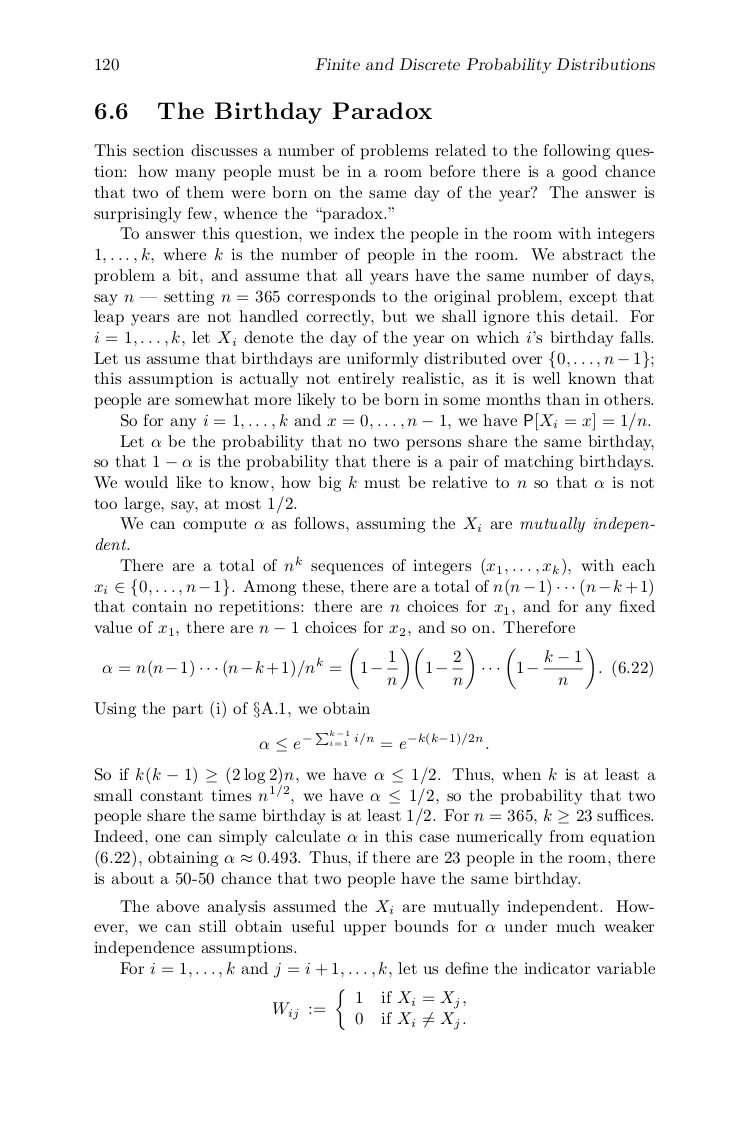formula: (102, 647, 652, 689), (273, 988, 465, 1030), (259, 729, 488, 752)
